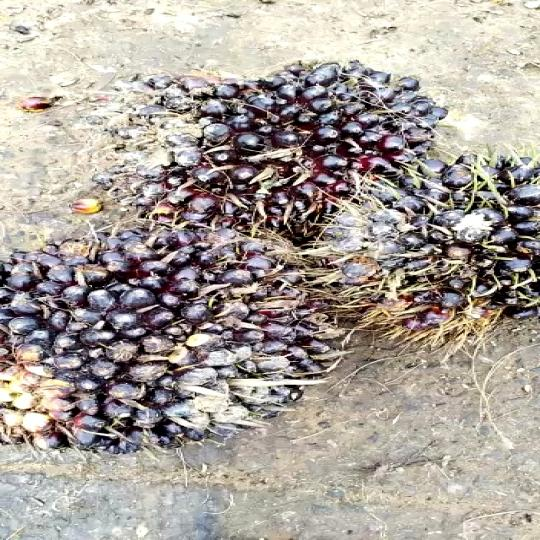mentah: (0, 208, 332, 462), (133, 63, 450, 259), (303, 151, 540, 373)
